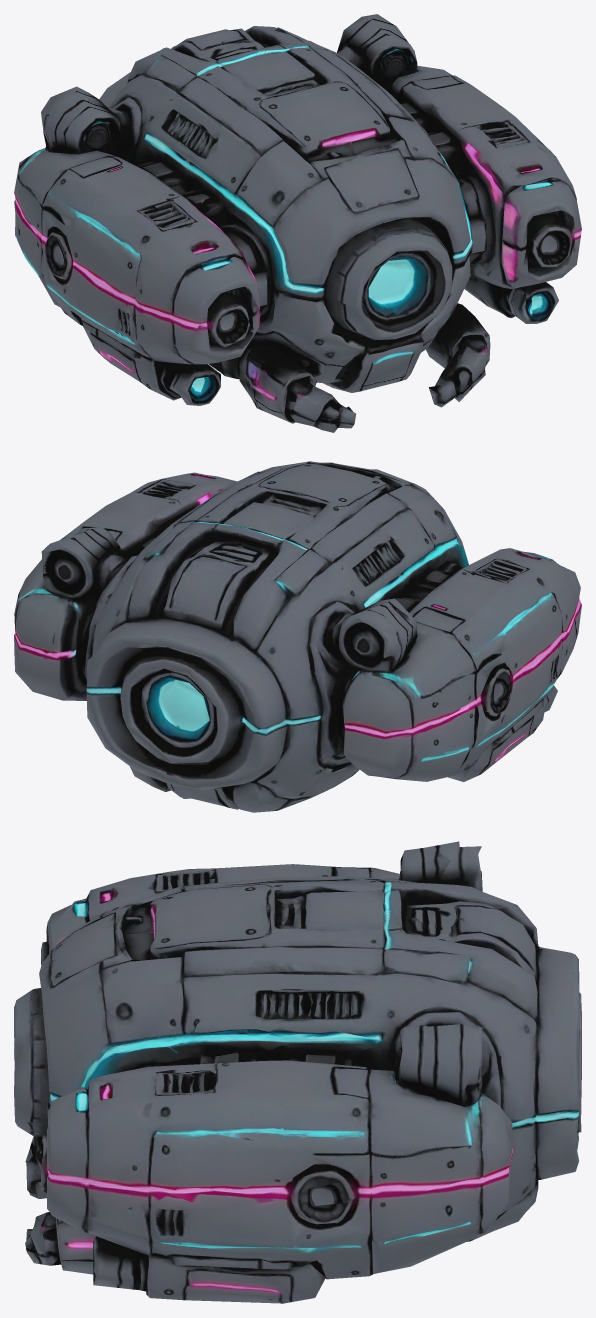
Rendered from prop-ship-c.glb.
The picture shows the model from 3 angles, top to bottom: view 1: azimuth 30°, elevation 25°; view 2: azimuth 150°, elevation 25°; view 3: azimuth 270°, elevation 25°; orthographic projection. The views are drawn at different scales.
Visible parts, largest first — view 1: body; view 2: body; view 3: body.
Boxes of the visible parts, x1,y1,x2,y2 form: body: [14, 14, 581, 432]; body: [14, 461, 581, 812]; body: [14, 841, 581, 1303].
Bounding box in the file's own units: 0.9998 × 0.5588 × 0.8935.
Materials: 1 (1 with a texture image).
